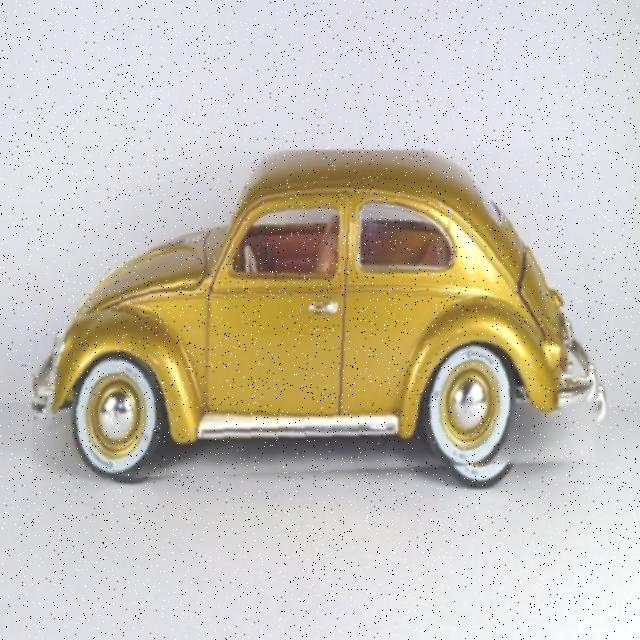car: (33, 151, 609, 483)
